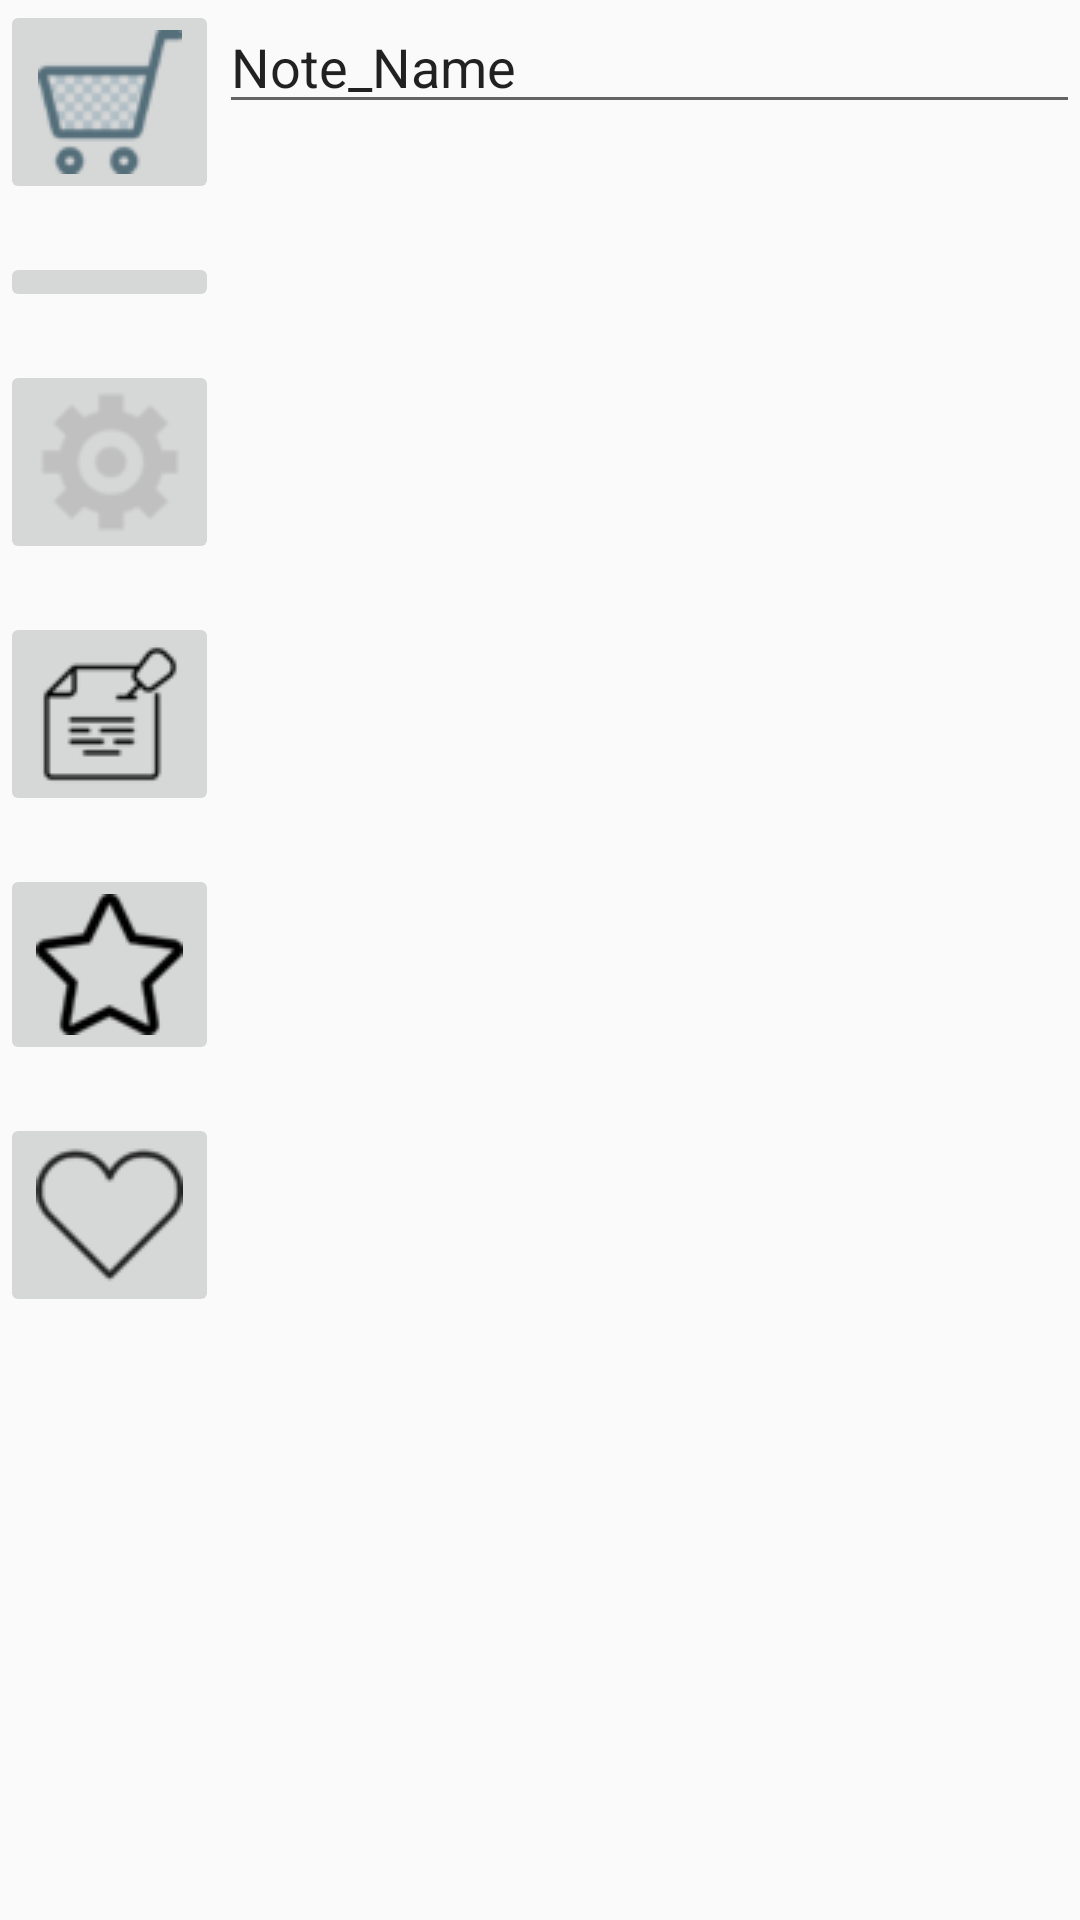

Named icons in this screenshot (1080x1920) and their bounding boxes, (x1, y1, x2, y2):
love: (12, 1131, 207, 1299)
note: (12, 630, 207, 798)
shoppingcart: (12, 18, 207, 186)
star: (12, 882, 207, 1047)
